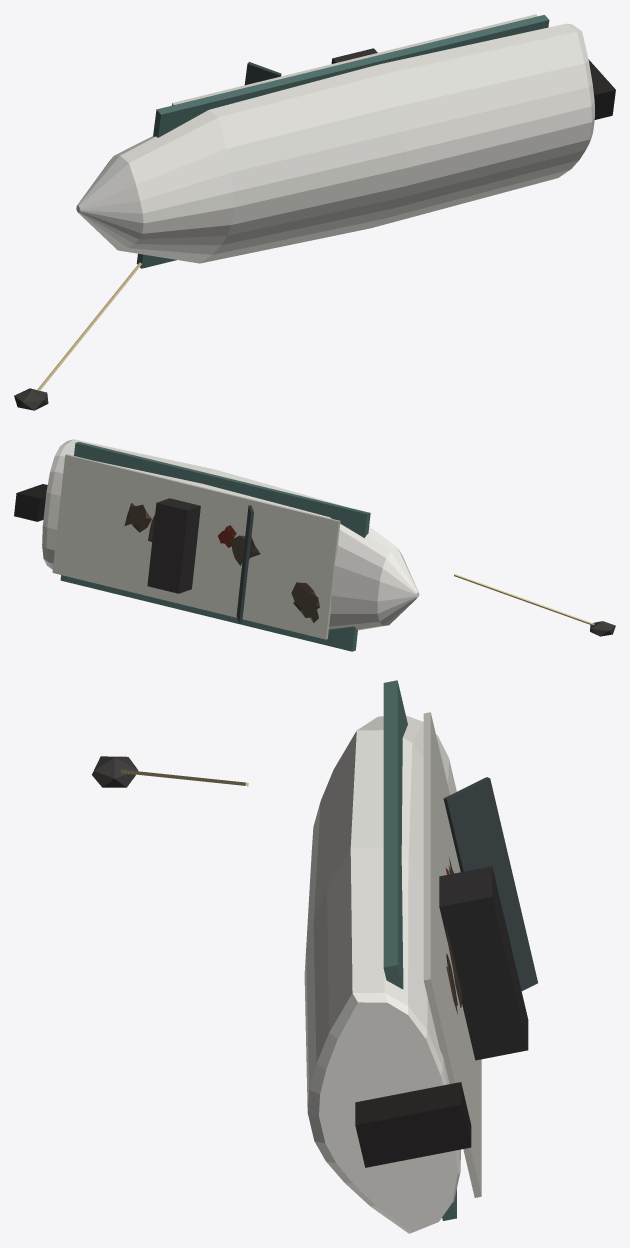
File: shore_boat.glb
3 renders of one model, top to bottom at view 1: azimuth 30°, elevation 25°; view 2: azimuth 150°, elevation 25°; view 3: azimuth 270°, elevation 25°, orthographic. The views are drawn at different scales.
Parts seen in each view (by area): view 1: shore_boat; view 2: shore_boat; view 3: shore_boat.
Boxes of the visible parts, bbox=[...] form: shore_boat: bbox=[14, 14, 615, 410]; shore_boat: bbox=[14, 439, 615, 651]; shore_boat: bbox=[92, 680, 537, 1233].
Size of the model in its own units: 9.79 by 2.42 by 3.71.
